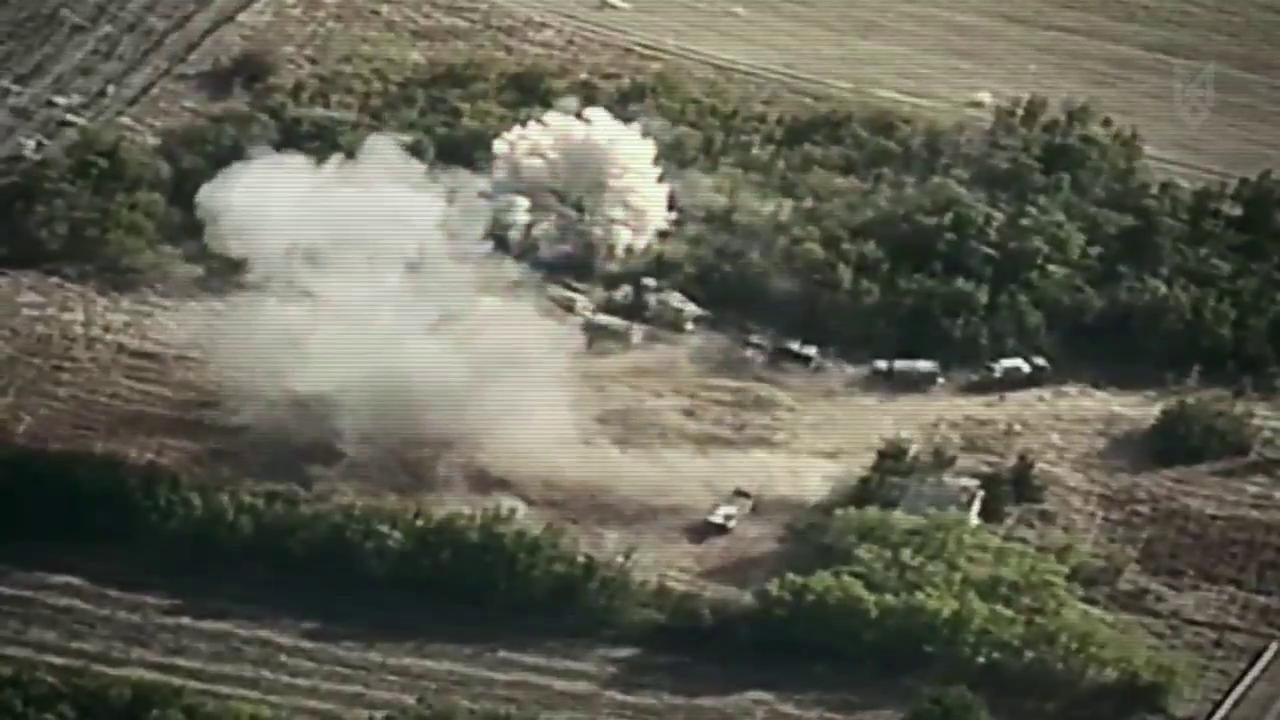tank: (742, 329, 833, 380), (639, 275, 709, 330), (866, 351, 945, 395), (700, 483, 758, 537), (982, 351, 1053, 392), (575, 308, 645, 347), (543, 274, 586, 316)
